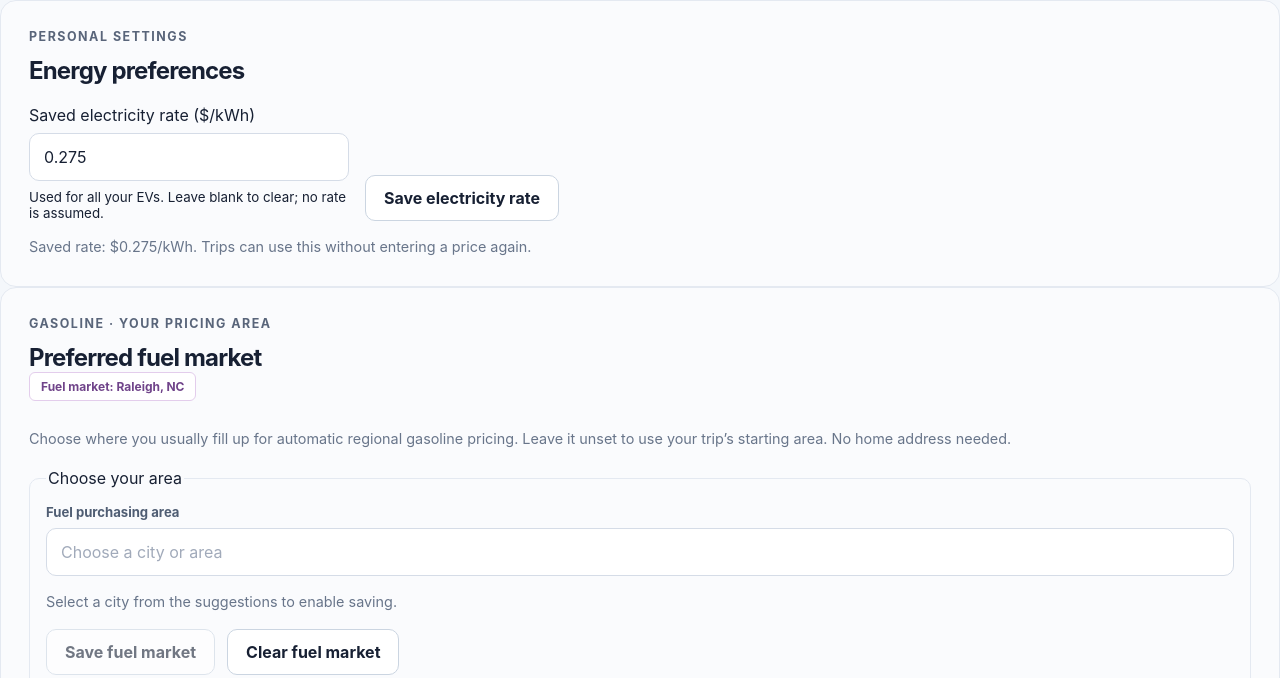
Test: EnergyPreferencesEditor › rejects invalid rate -1 without saving
Replace the text in the field labelled "Saved electricity rate ($/kWh)" with "-1". click: (189, 157)
box: [29,133,349,181]
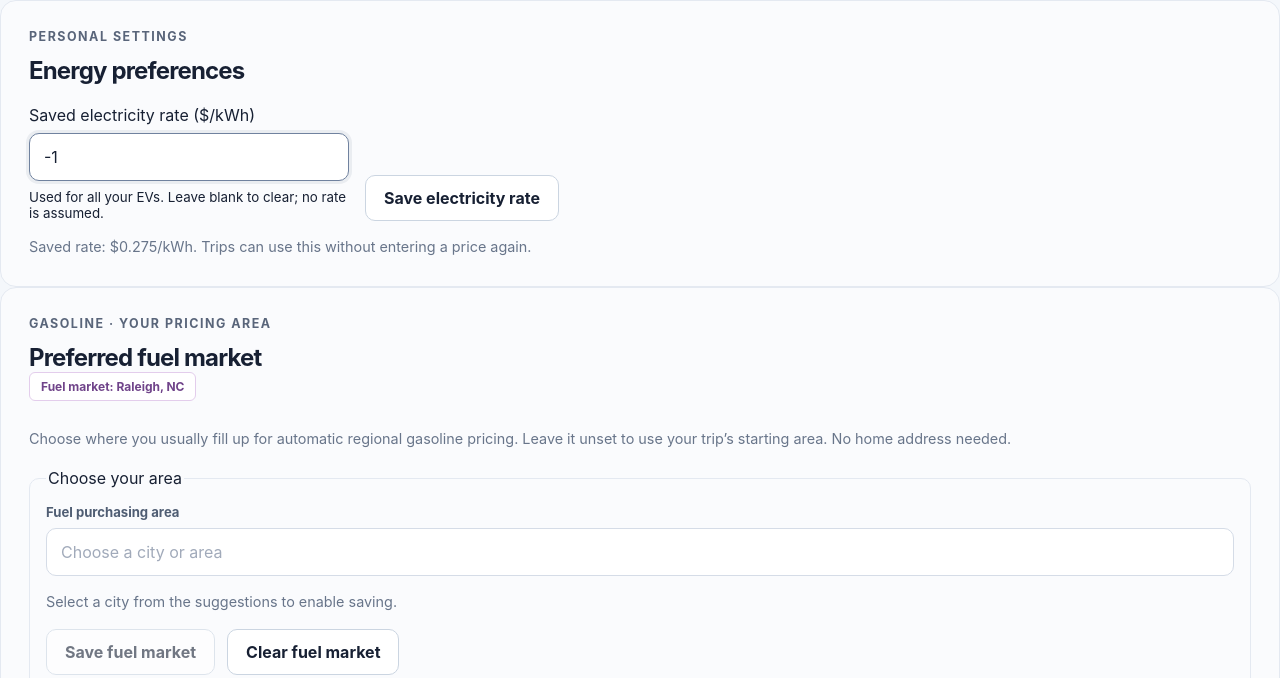
Click the button "Save electricity rate". click: (462, 198)
box: [365,175,559,221]
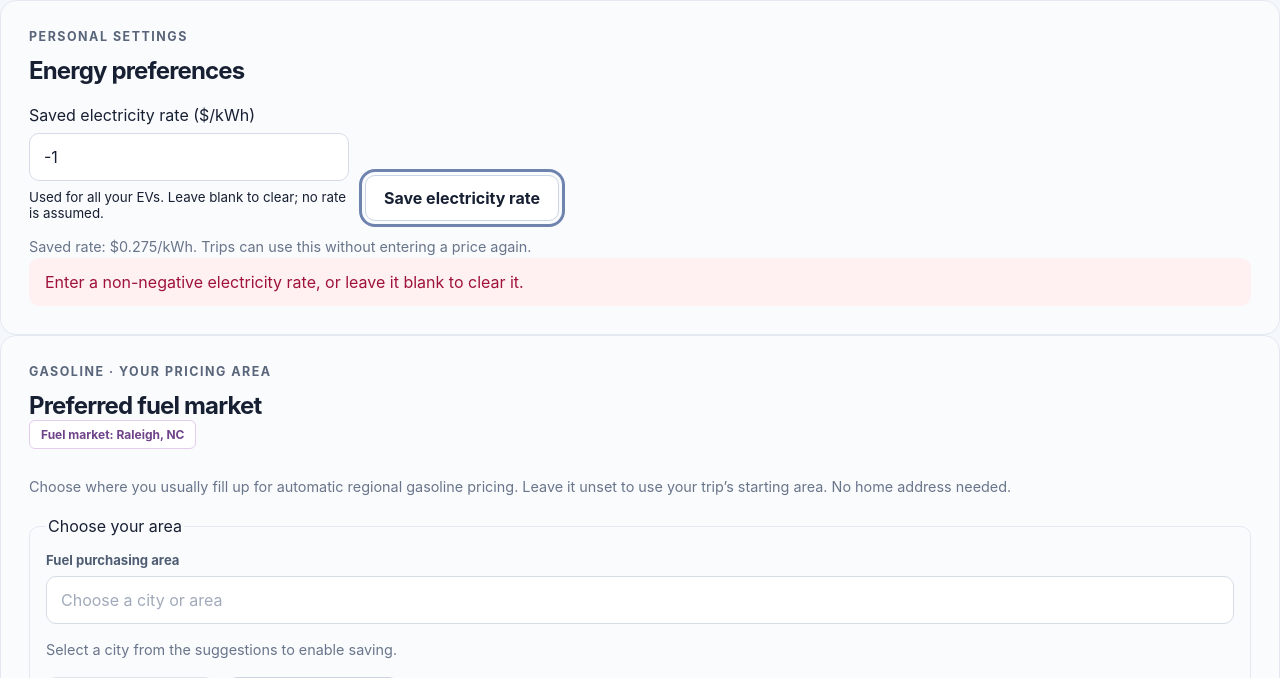
Expected: the message shows "non-negative electricity rate", [45,272,524,292]
